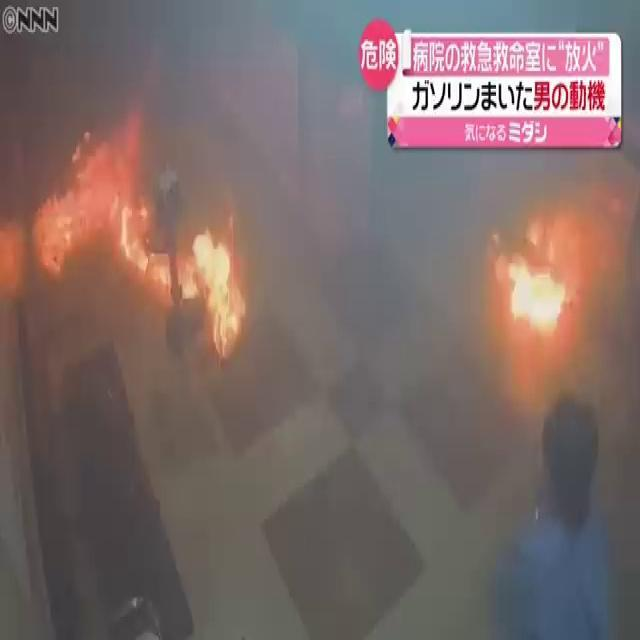Fire: (33, 98, 249, 390), (499, 240, 579, 347)
